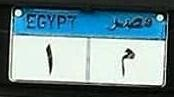1: (43, 44, 55, 78)
meem: (115, 47, 140, 79)
